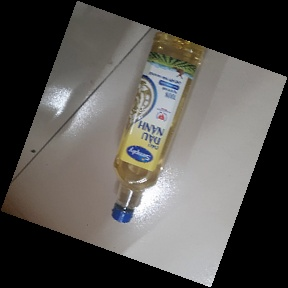Simply: (110, 28, 208, 225)
